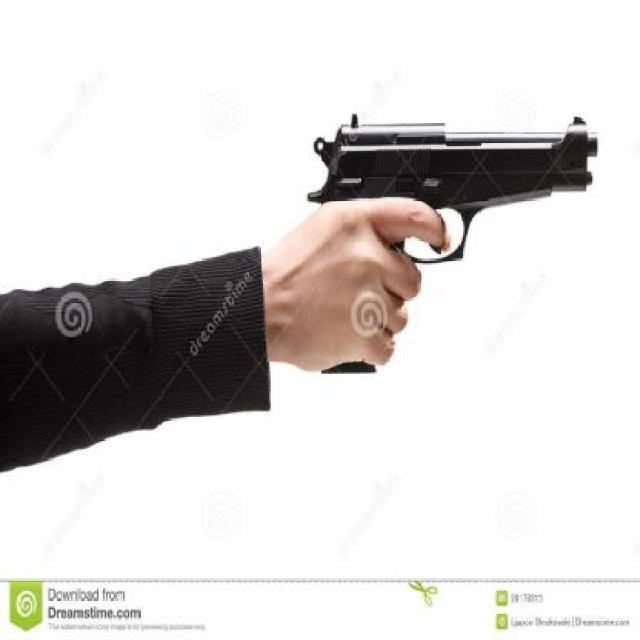guns: (283, 85, 605, 380)
